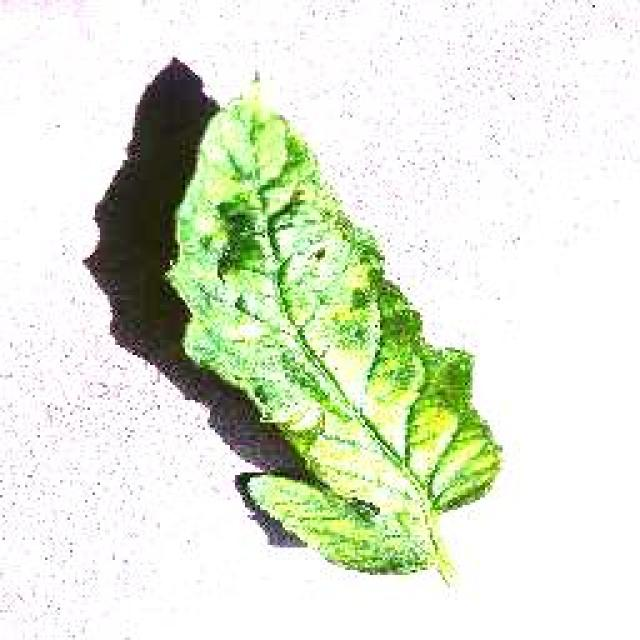Tomato___Tomato_mosaic_virus: (165, 85, 500, 575)
